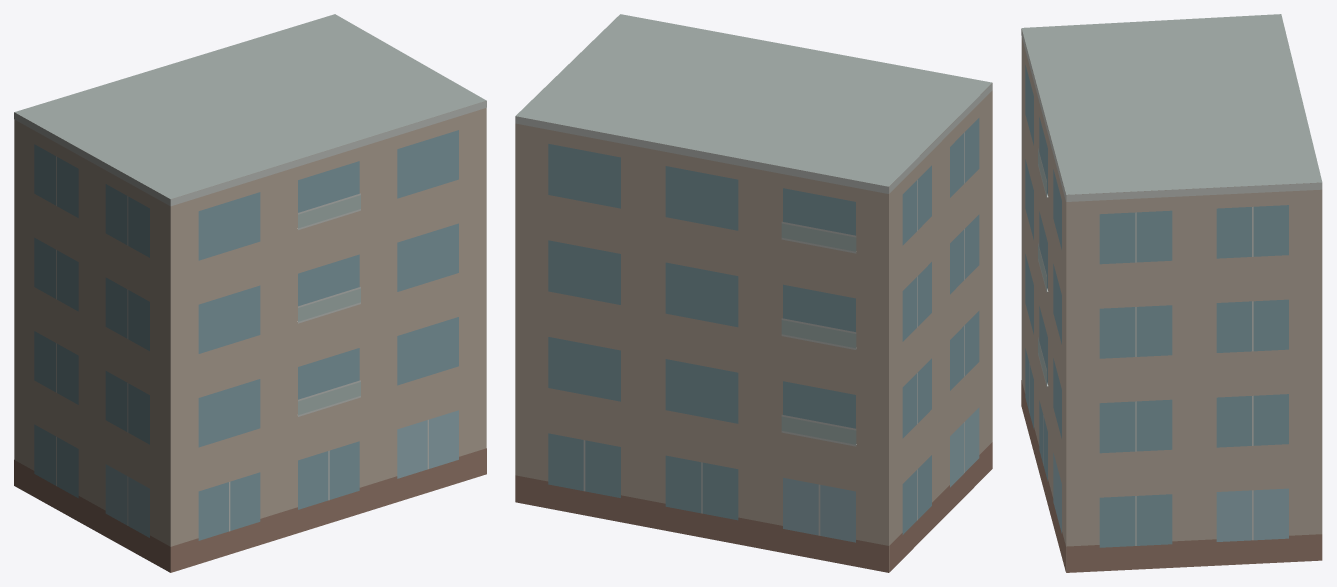
File: survey-upis-32917034.glb
The picture shows the model from 3 angles, left to right: view 1: azimuth 30°, elevation 25°; view 2: azimuth 150°, elevation 25°; view 3: azimuth 270°, elevation 25°; orthographic projection. The views are drawn at different scales.
Visible parts, largest first — view 1: survey-upis-32917034.tmp; view 2: survey-upis-32917034.tmp; view 3: survey-upis-32917034.tmp.
Part boxes in pixels (x1,y1,x2,y2): survey-upis-32917034.tmp: [14, 14, 486, 572]; survey-upis-32917034.tmp: [515, 14, 992, 572]; survey-upis-32917034.tmp: [1021, 14, 1322, 572].
Size of the model in its own units: 13.14 by 12.8 by 9.25.
